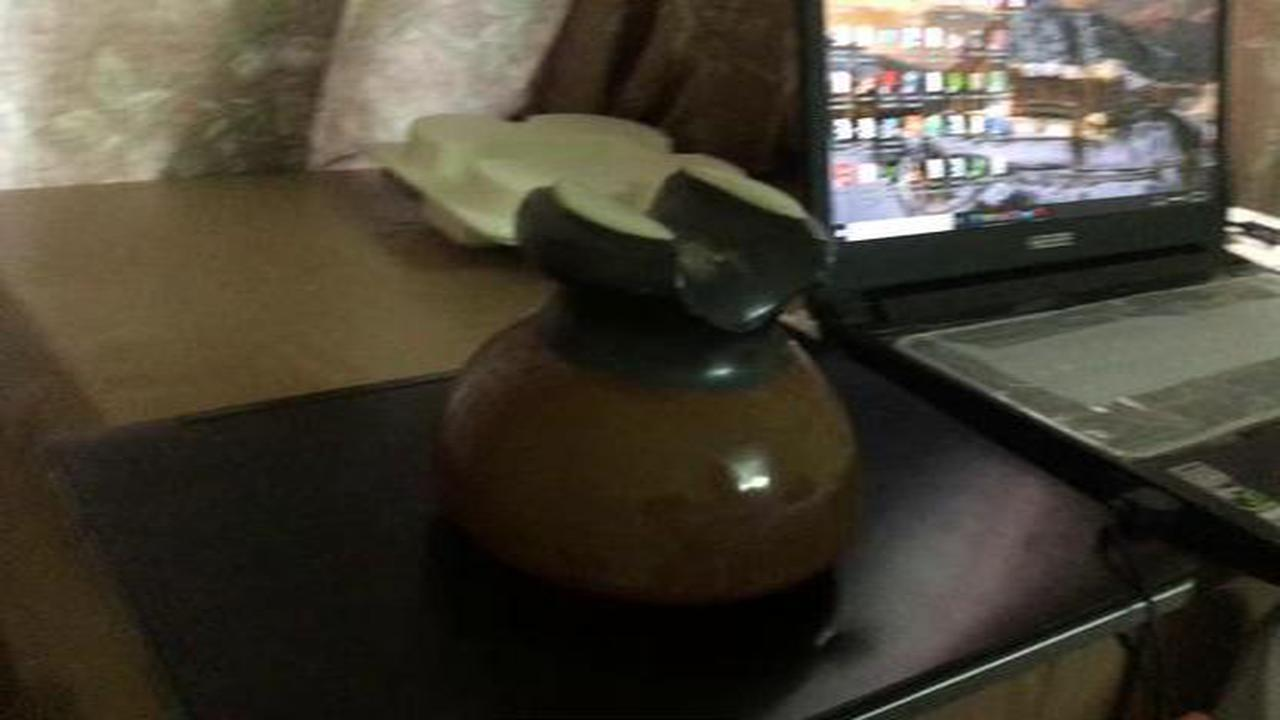insulator_pin: (416, 153, 887, 629)
